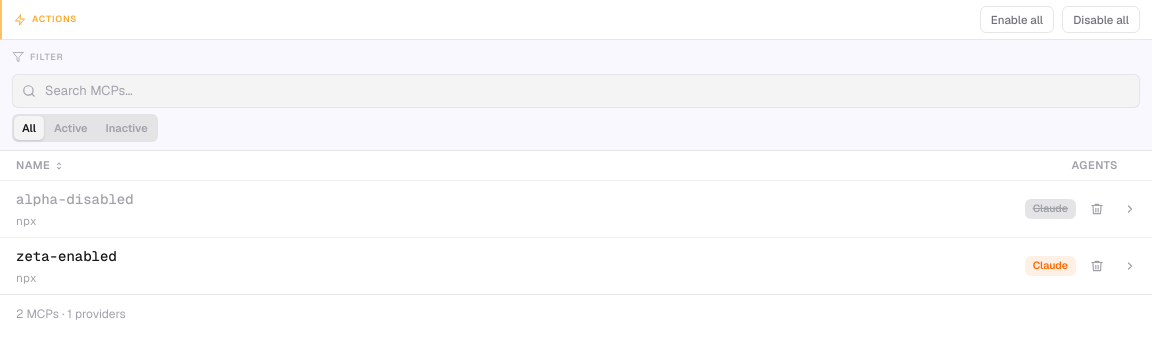
AllMcpsView — sorting › clicking the sort control switches to enabled-first order
Step 1. Click the button titled "click to sort by enabled status" → (33, 165), box x1=16 y1=157 x2=1071 y2=174
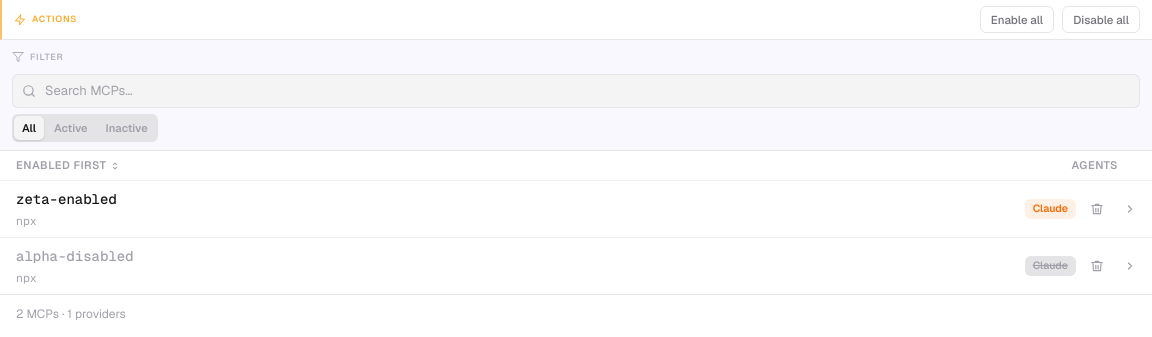
expect the button "Enabled first" is shown: met, box x1=16 y1=157 x2=1071 y2=174
